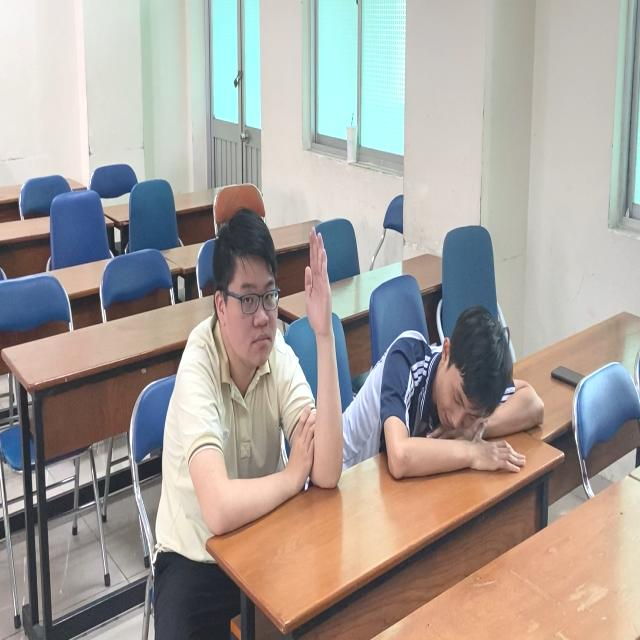raise_hand: (189, 213, 345, 543)
sleep: (350, 301, 557, 478)
